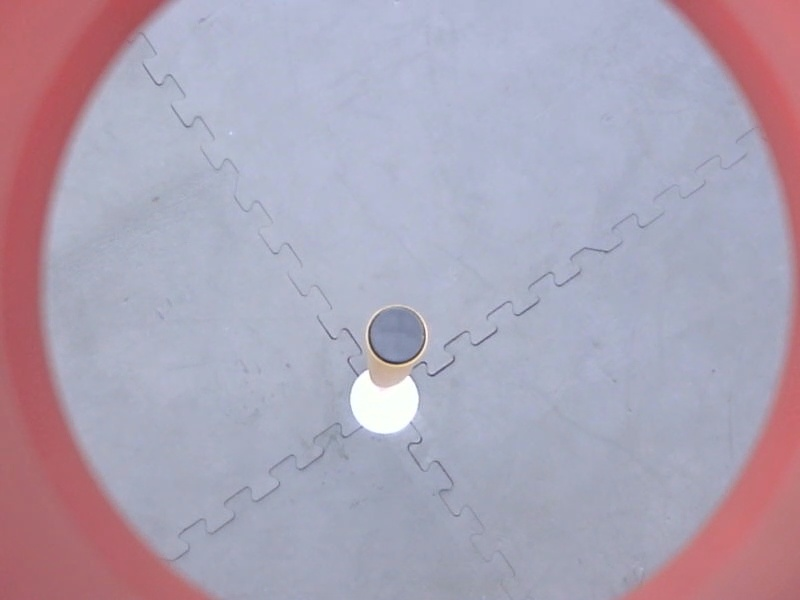tip: (364, 302, 432, 370)
